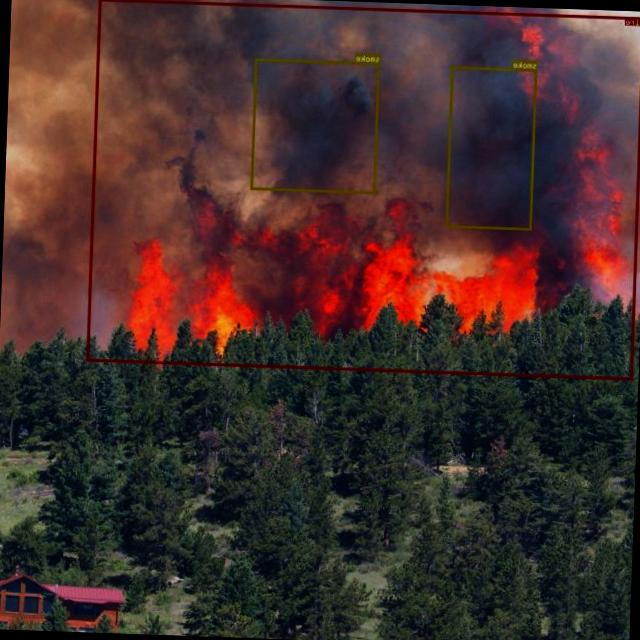fire: (86, 0, 640, 379)
smoke: (250, 57, 380, 193), (445, 66, 537, 230)
